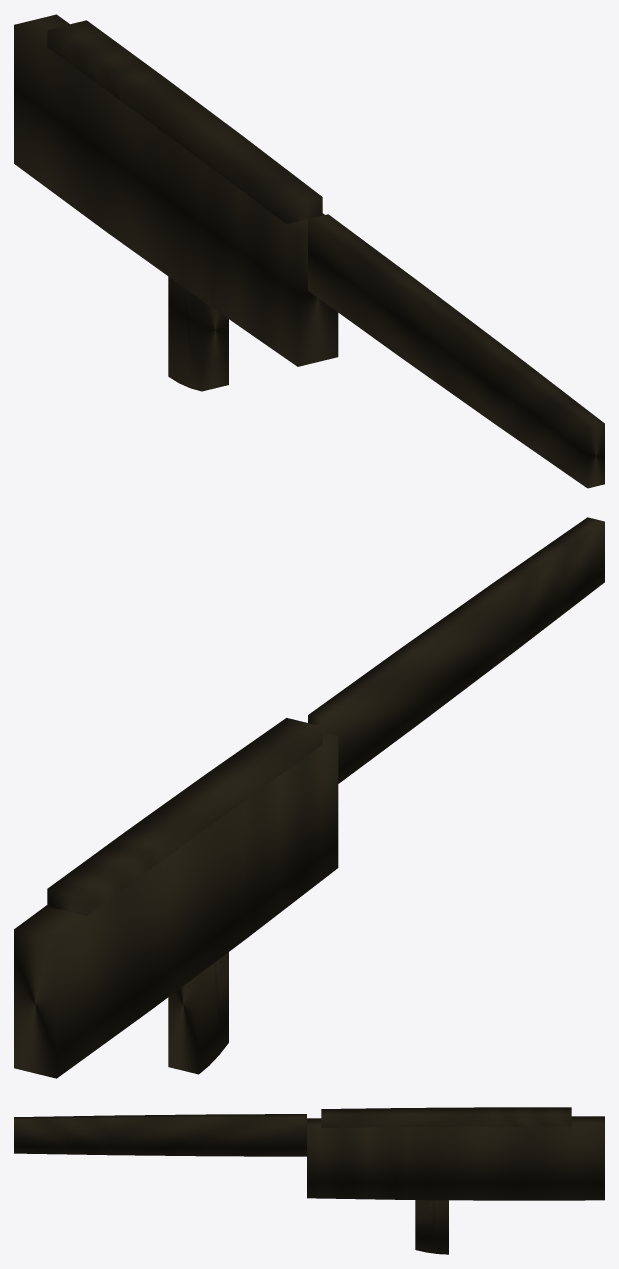
Rendered from wpn_svd_dragunov.glb.
3 views of the same model, one above another, from view 1: azimuth 30°, elevation 25°; view 2: azimuth 150°, elevation 25°; view 3: azimuth 270°, elevation 25° (orthographic). The views are drawn at different scales.
Parts seen in each view (by area): view 1: SubMesh_0_Receiver, SubMesh_3_BarrelSight, SubMesh_1_Action, SubMesh_2_Magazine; view 2: SubMesh_0_Receiver, SubMesh_3_BarrelSight, SubMesh_1_Action, SubMesh_2_Magazine; view 3: SubMesh_0_Receiver, SubMesh_3_BarrelSight, SubMesh_1_Action, SubMesh_2_Magazine.
Part boxes in pixels (<box>): SubMesh_0_Receiver: <box>14,14,338,366</box>; SubMesh_3_BarrelSight: <box>308,214,604,488</box>; SubMesh_1_Action: <box>47,20,322,223</box>; SubMesh_2_Magazine: <box>168,276,228,391</box>; SubMesh_0_Receiver: <box>14,732,338,1078</box>; SubMesh_3_BarrelSight: <box>308,517,604,783</box>; SubMesh_1_Action: <box>47,718,322,915</box>; SubMesh_2_Magazine: <box>168,952,228,1074</box>; SubMesh_0_Receiver: <box>307,1116,604,1200</box>; SubMesh_3_BarrelSight: <box>14,1114,306,1156</box>; SubMesh_1_Action: <box>321,1107,571,1127</box>; SubMesh_2_Magazine: <box>415,1200,448,1254</box>.
Size of the model in its own units: 0.0544 by 0.3176 by 1.23.
1 material, 1 textured.
